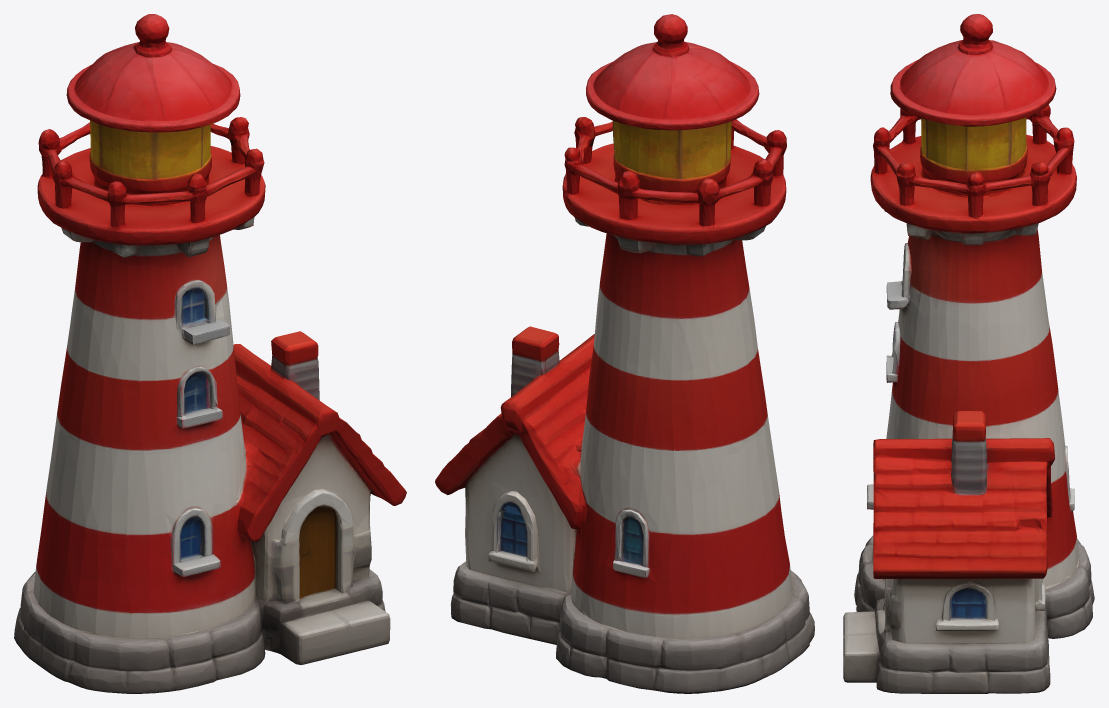
The model's file is lighthouse.glb.
3 renders of one model, left to right at view 1: azimuth 30°, elevation 25°; view 2: azimuth 150°, elevation 25°; view 3: azimuth 270°, elevation 25°, orthographic. The views are drawn at different scales.
Parts seen in each view (by area): view 1: geometry_0; view 2: geometry_0; view 3: geometry_0.
Part boxes in pixels (<box>): geometry_0: <box>14,14,406,693</box>; geometry_0: <box>435,14,814,693</box>; geometry_0: <box>843,14,1094,693</box>.
Bounding box in the file's own units: 0.5361 × 1 × 0.3865.
1 material, 1 textured.
